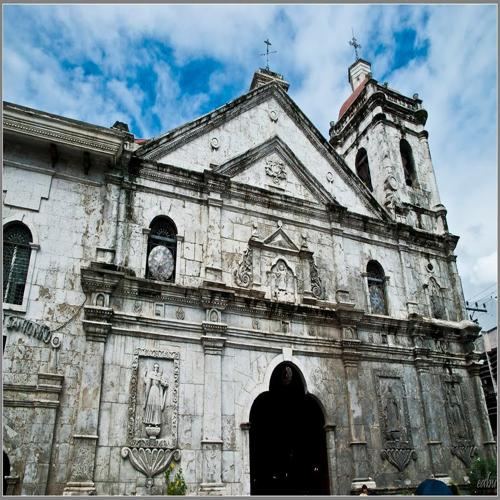Sto. Nino Basilica Church: (103, 14, 487, 499)
